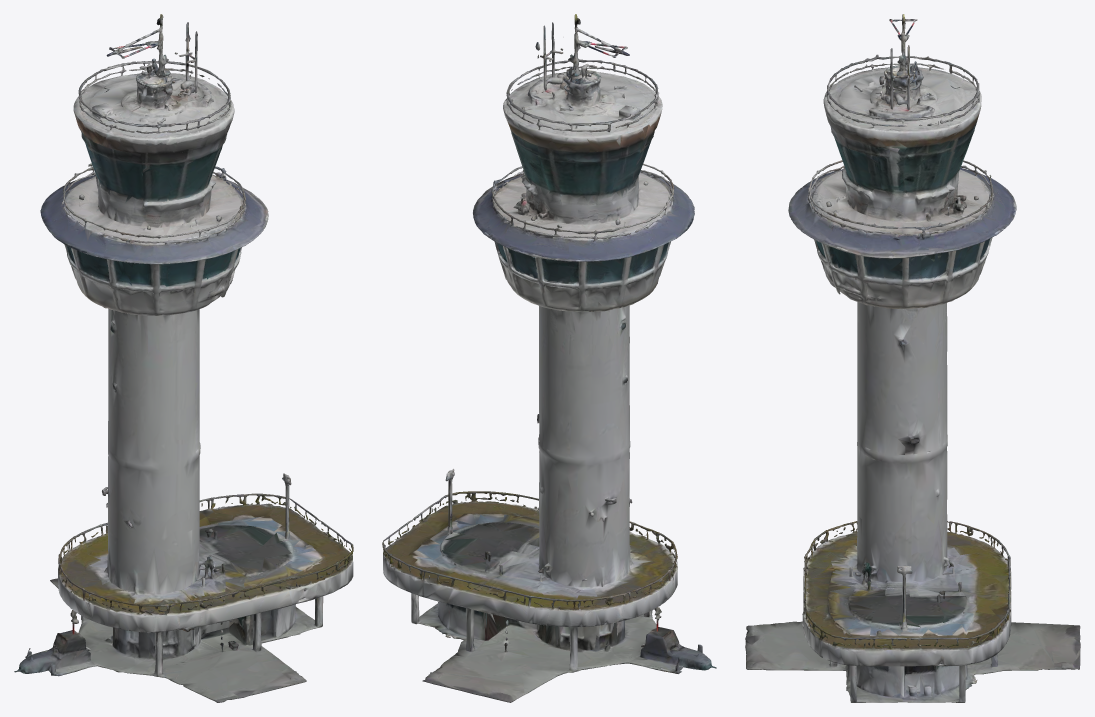
File: atc5.glb
3 views of the same model, side by side, from view 1: azimuth 30°, elevation 25°; view 2: azimuth 150°, elevation 25°; view 3: azimuth 270°, elevation 25° (orthographic).
Visible parts, largest first — view 1: Mesh_0; view 2: Mesh_0; view 3: Mesh_0.
Boxes of the visible parts, x1=… form: Mesh_0: x1=14, y1=14, x2=353, y2=702; Mesh_0: x1=382, y1=14, x2=716, y2=702; Mesh_0: x1=745, y1=14, x2=1080, y2=702.
Bounding box in the file's own units: 0.983 × 1.9 × 0.9281.
1 material, 1 textured.
